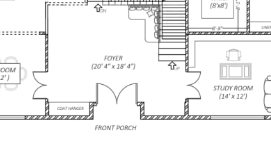double door: (92, 79, 144, 108), (27, 68, 54, 101), (182, 70, 204, 102)
window: (208, 109, 266, 130)
